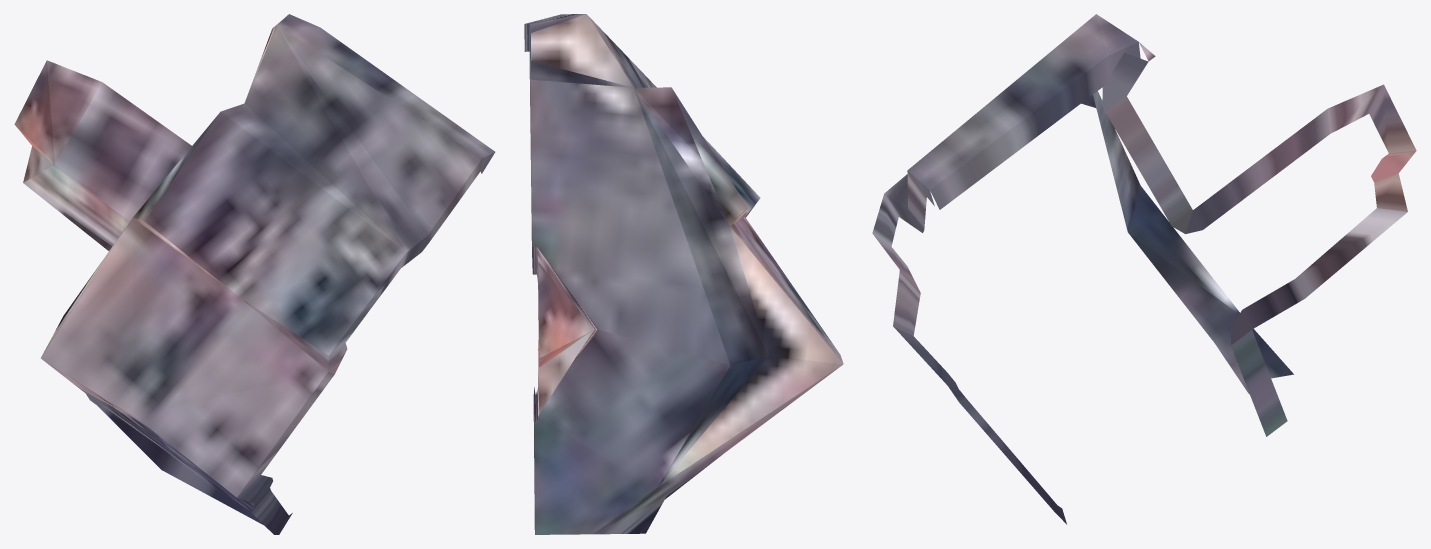
The picture shows the model from 3 angles, left to right: view 1: azimuth 30°, elevation 25°; view 2: azimuth 150°, elevation 25°; view 3: azimuth 270°, elevation 25°; orthographic projection. The views are drawn at different scales.
Bounding box in the file's own units: 15.32 × 19.23 × 18.34.
Materials: 1 (1 with a texture image).
